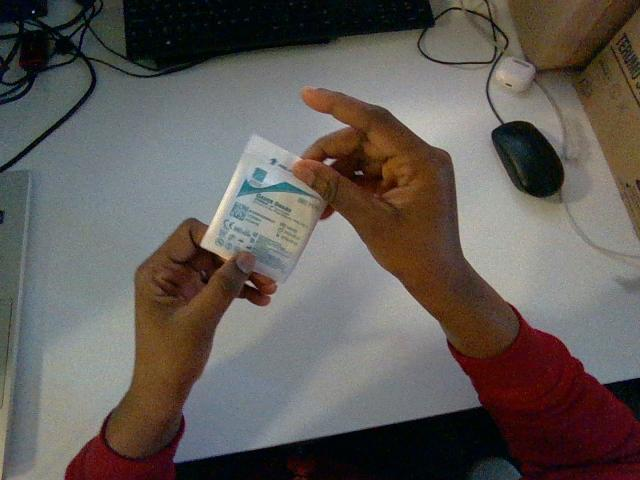gauze: (201, 135, 325, 282)
